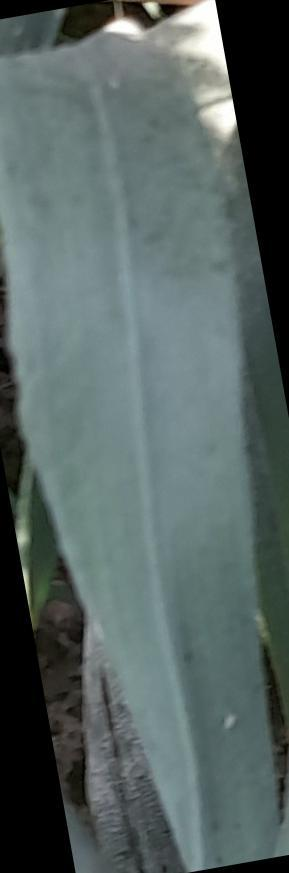Wheat: (10, 80, 222, 338), (182, 508, 271, 860), (41, 348, 267, 483)
